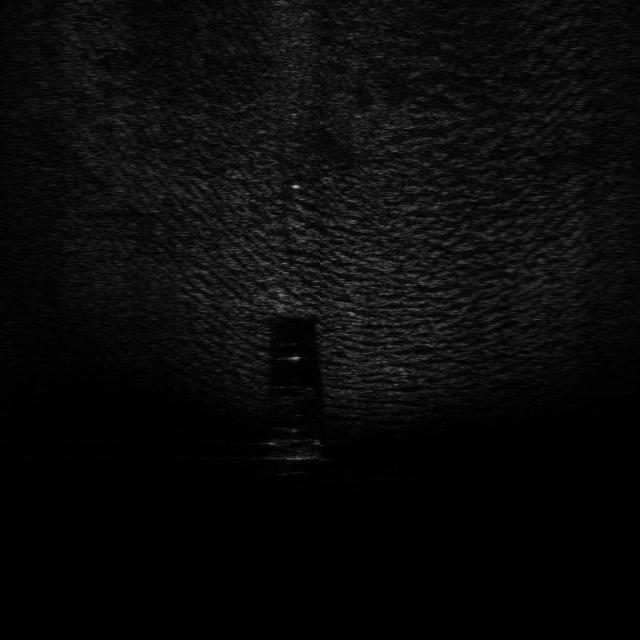cube: (268, 434, 323, 464)
